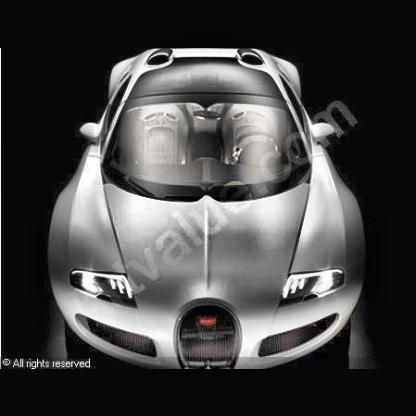Bugatti Veyron 16-4 Convertible 2009: (51, 49, 368, 369)
